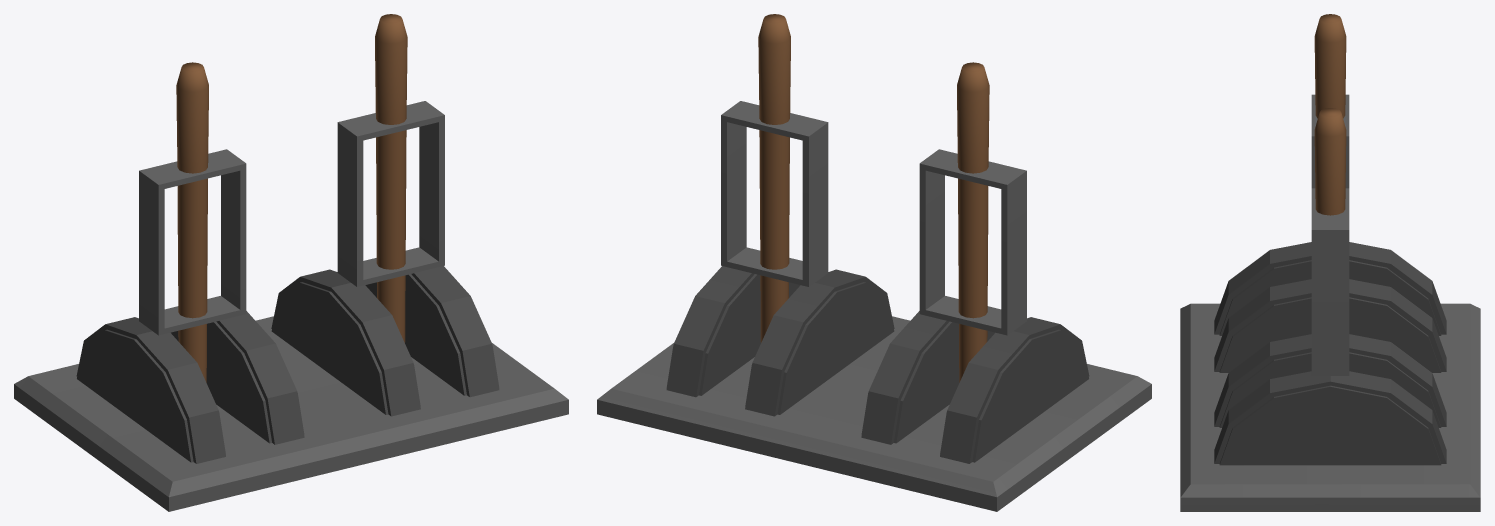
Rendered from Big_Control_Stick_5.fbx.
The picture shows the model from 3 angles, left to right: view 1: azimuth 30°, elevation 25°; view 2: azimuth 150°, elevation 25°; view 3: azimuth 270°, elevation 25°; orthographic projection. The views are drawn at different scales.
Visible parts, largest first — view 1: Big_Control_Stick_5, Big_Control_Stick_5.001, Big_Control_Stick_5.002; view 2: Big_Control_Stick_5, Big_Control_Stick_5.001, Big_Control_Stick_5.002; view 3: Big_Control_Stick_5, Big_Control_Stick_5.001, Big_Control_Stick_5.002.
Boxes of the visible parts, x1=… form: Big_Control_Stick_5: x1=14, y1=266, x2=568, y2=511; Big_Control_Stick_5.001: x1=337, y1=14, x2=444, y2=342; Big_Control_Stick_5.002: x1=139, y1=62, x2=246, y2=382; Big_Control_Stick_5: x1=597, y1=266, x2=1151, y2=511; Big_Control_Stick_5.001: x1=721, y1=14, x2=828, y2=342; Big_Control_Stick_5.002: x1=919, y1=62, x2=1026, y2=382; Big_Control_Stick_5: x1=1180, y1=242, x2=1480, y2=511; Big_Control_Stick_5.001: x1=1311, y1=108, x2=1349, y2=375; Big_Control_Stick_5.002: x1=1311, y1=14, x2=1349, y2=188.
Size of the model in its own units: 58.18 by 50.49 by 38.99.
Materials: 1 (1 with a texture image).
